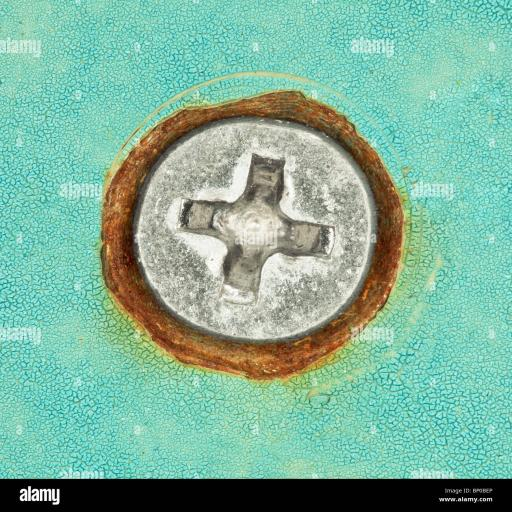Phillips: (136, 118, 374, 343)
